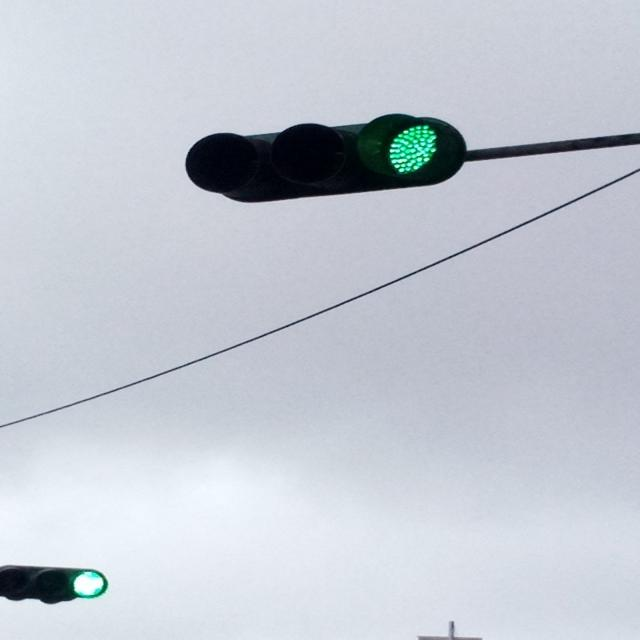green light: (183, 109, 467, 207), (0, 561, 110, 604)
